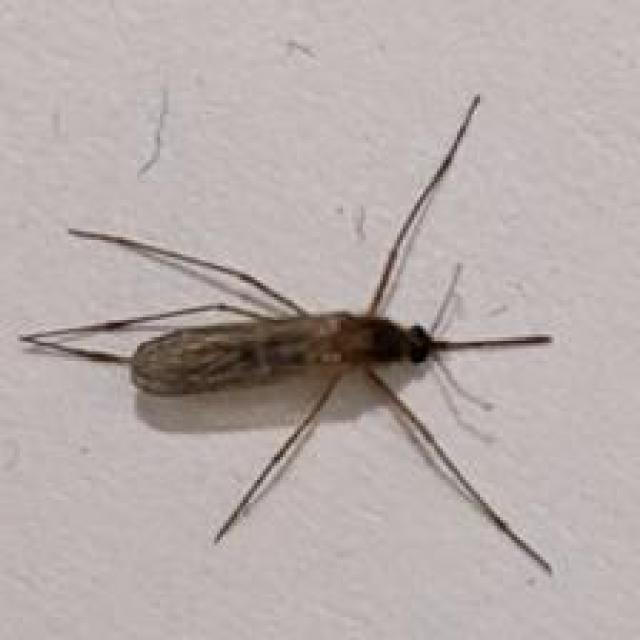Culex: (17, 92, 557, 577)
